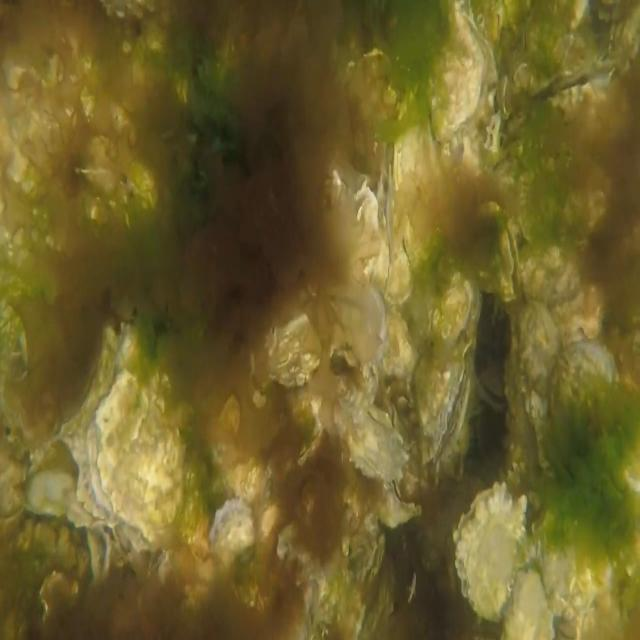Oyster-Closed: (532, 508, 612, 619), (417, 336, 474, 464), (333, 396, 409, 487), (378, 476, 422, 529)
Oyster-Indeterminate: (86, 366, 183, 546), (549, 339, 640, 490), (454, 480, 527, 620), (428, 0, 484, 143), (250, 294, 333, 390), (394, 122, 446, 272), (516, 297, 561, 466), (514, 240, 584, 307), (436, 266, 482, 348), (385, 180, 414, 308), (212, 494, 256, 556)
Oyster-Open: (529, 55, 618, 114), (497, 219, 522, 300)
